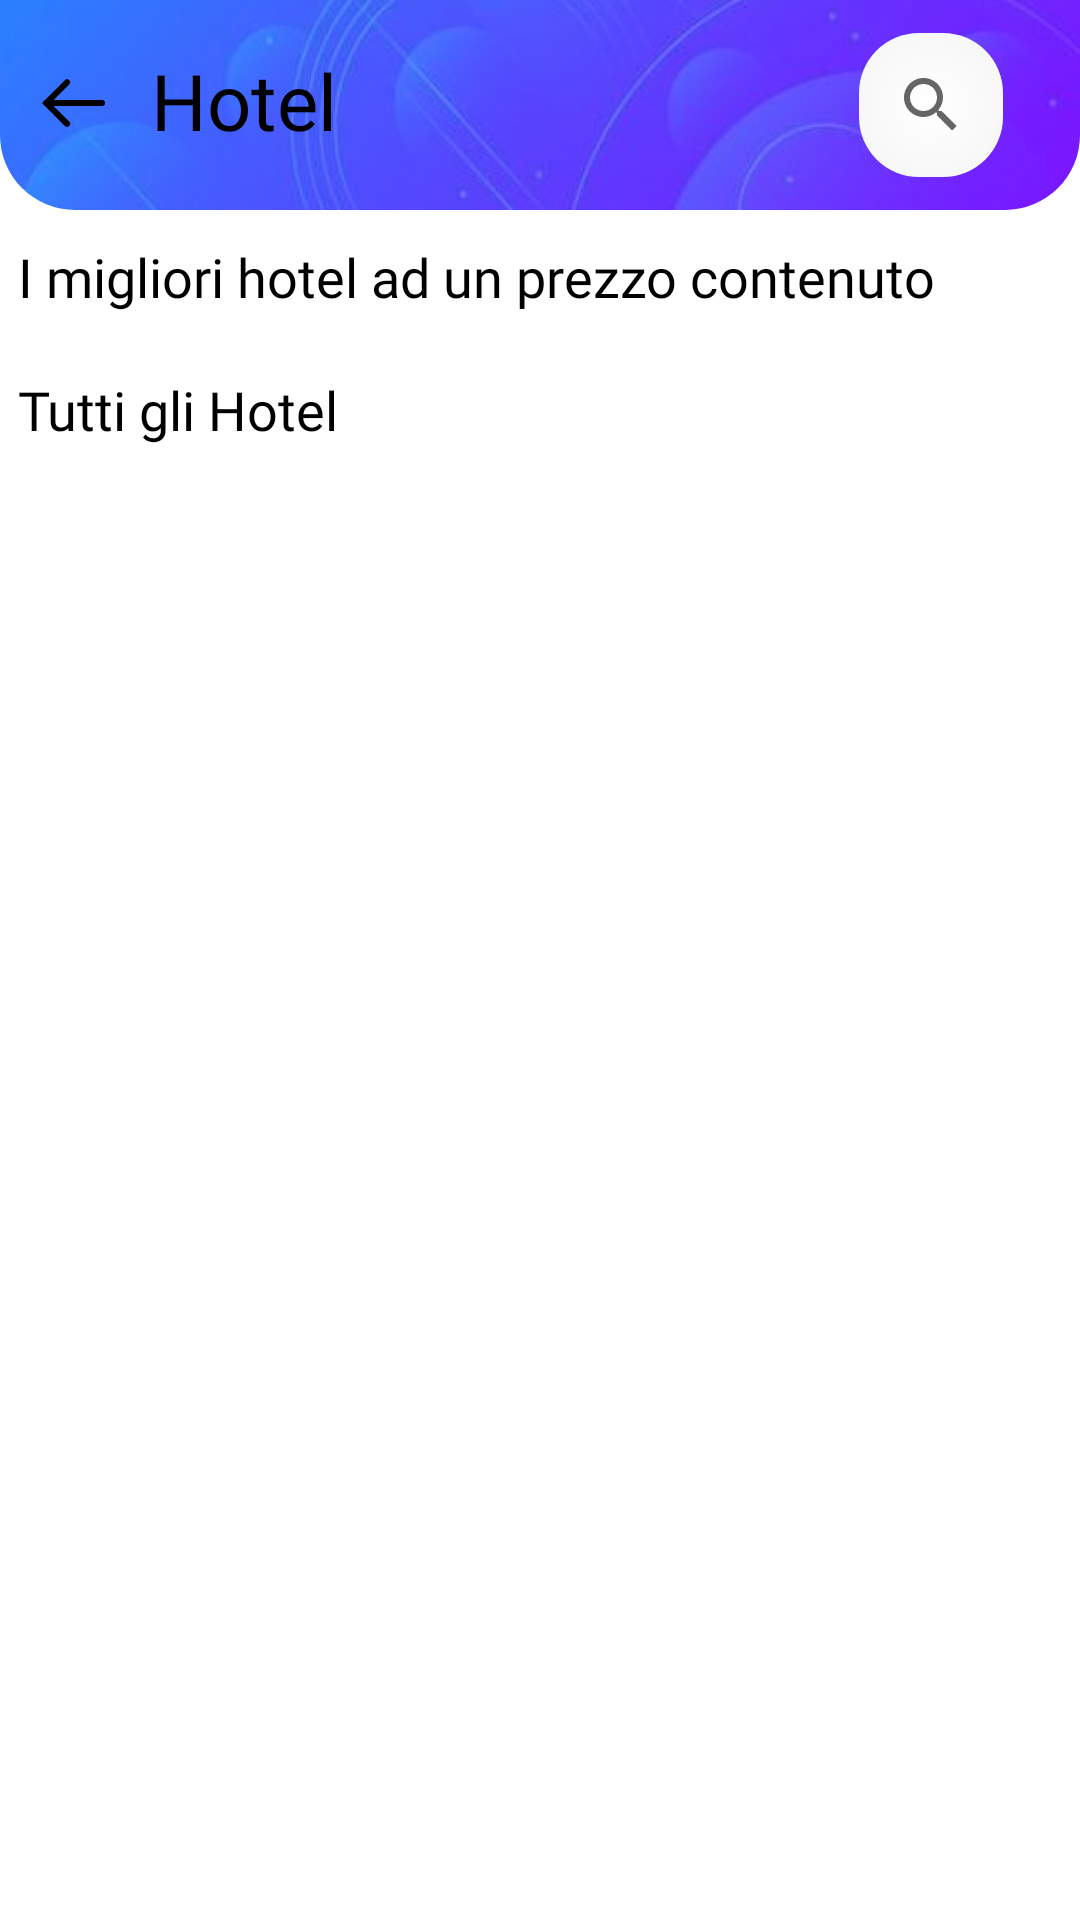

Point at icon controls on the screen. Image size 1080 x 1920, points as (x=x, y=y).
arrow back: (x=73, y=103)
